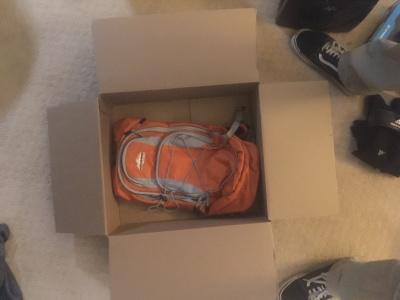innerbox: (99, 92, 270, 223)
outerbox: (50, 20, 340, 300)
product: (107, 117, 263, 212)
